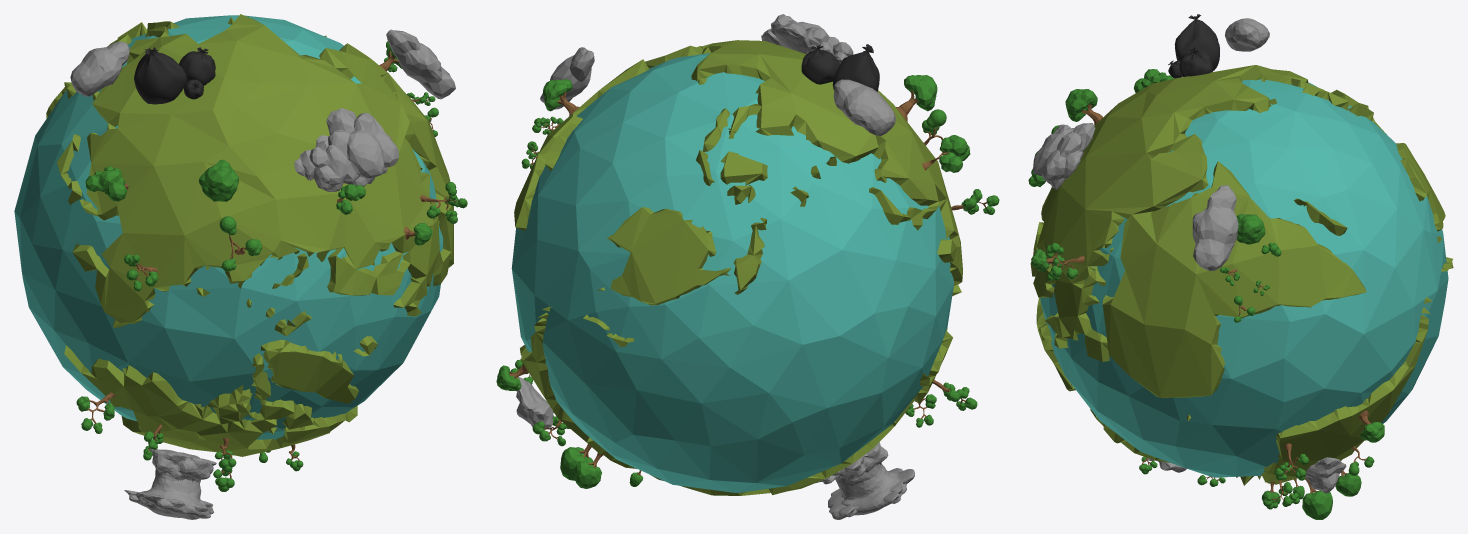
File: STE.fbx
The picture shows the model from 3 angles, left to right: view 1: azimuth 30°, elevation 25°; view 2: azimuth 150°, elevation 25°; view 3: azimuth 270°, elevation 25°; orthographic projection. The views are drawn at different scales.
Visible parts, largest first — view 1: all_good.001; view 2: all_good.001; view 3: all_good.001.
Boxes of the visible parts, x1=… form: all_good.001: x1=14, y1=14, x2=467, y2=519; all_good.001: x1=496, y1=14, x2=999, y2=519; all_good.001: x1=1028, y1=14, x2=1453, y2=519.
Size of the model in its own units: 103 by 116 by 102.
